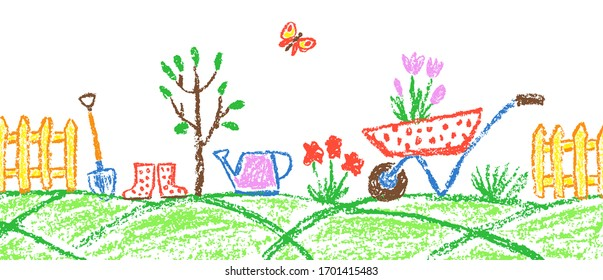flower: (401, 48, 426, 118), (422, 51, 444, 118), (299, 135, 326, 189), (337, 151, 366, 198), (386, 76, 412, 123), (323, 133, 343, 193), (422, 82, 447, 120)
tree: (152, 46, 247, 197)
